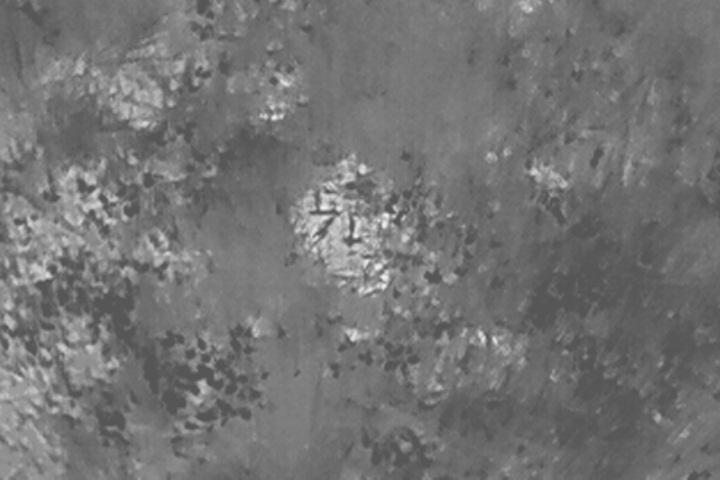landmine: (290, 154, 422, 294)
